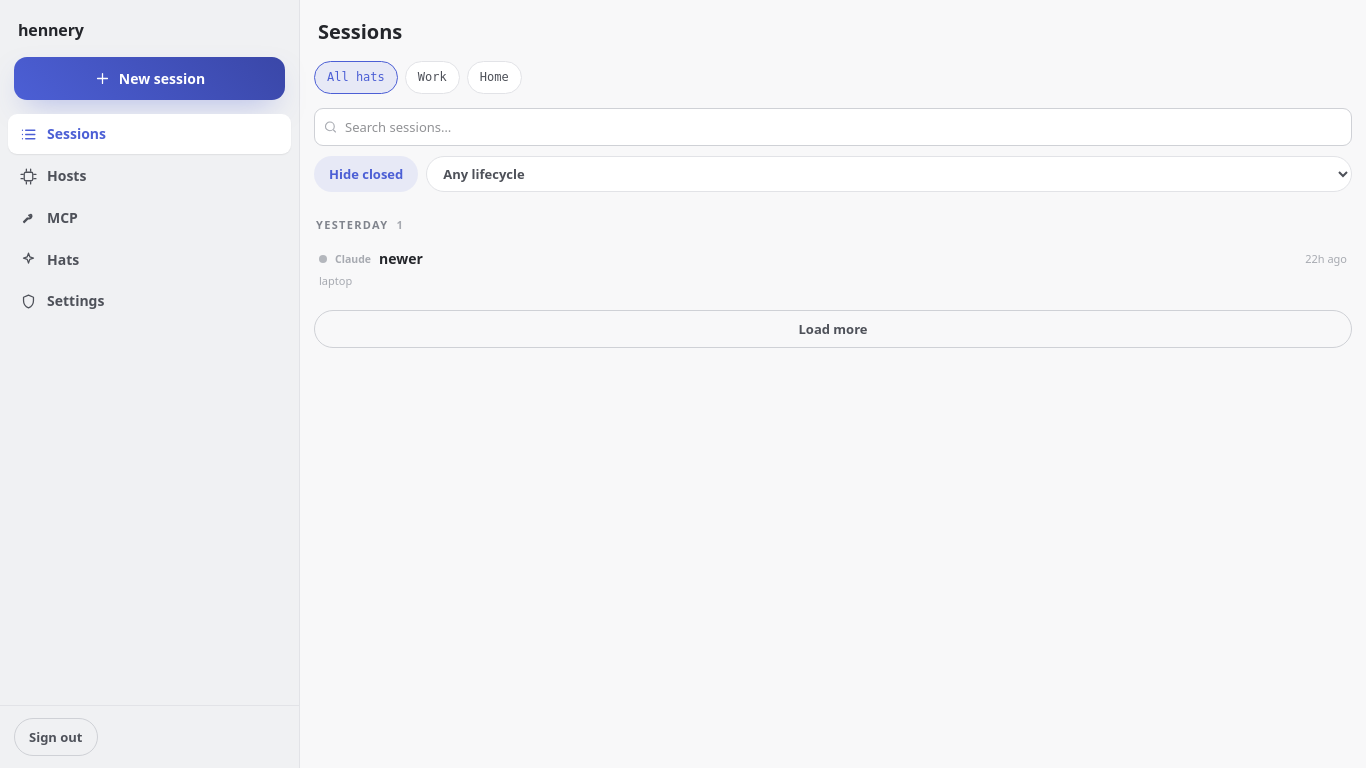
Test: filters › loads the next page by its cursor
Click the button "Load more": (833, 329) [314,310,1352,348]
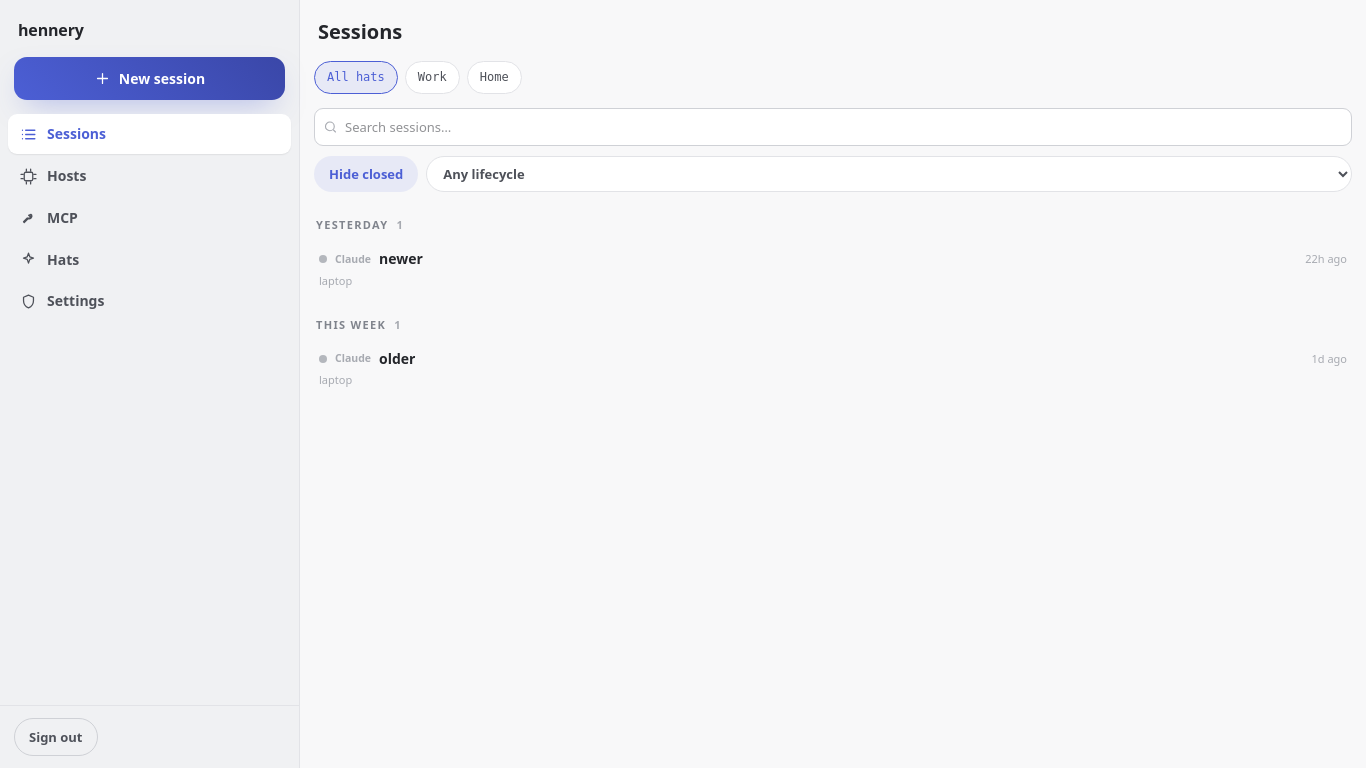
expect the button "Load more" is gone: met
